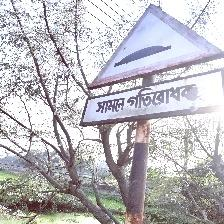Speed-breaker: (81, 3, 224, 127)
